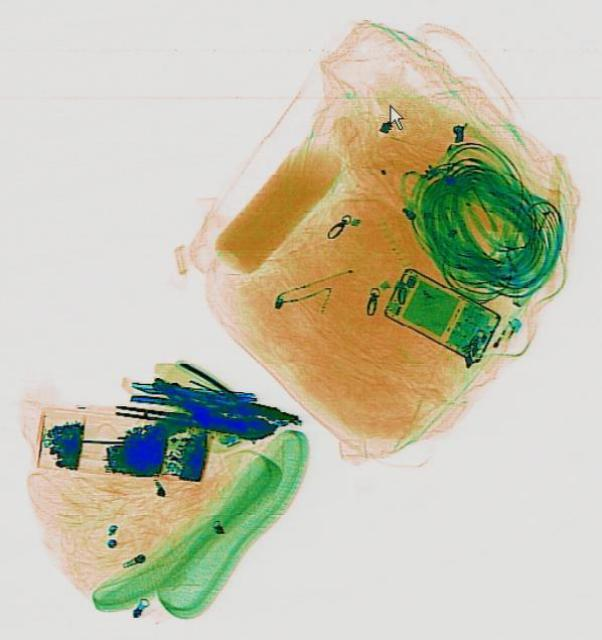Pliers: (127, 347, 307, 443)
